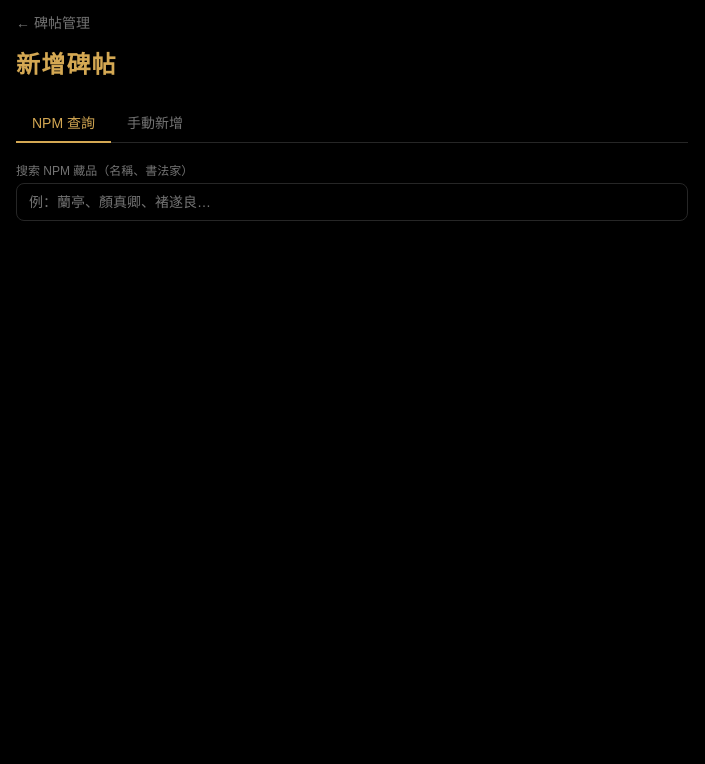
Test: creation mode — NPM search › renders npm result rows and clicking one populates the form
The width and height of the screenshot is (705, 764).
In the field with placeholder "例：蘭亭、顏真卿、褚遂良…": (352, 202) [16,183,688,221], type "蘭亭"
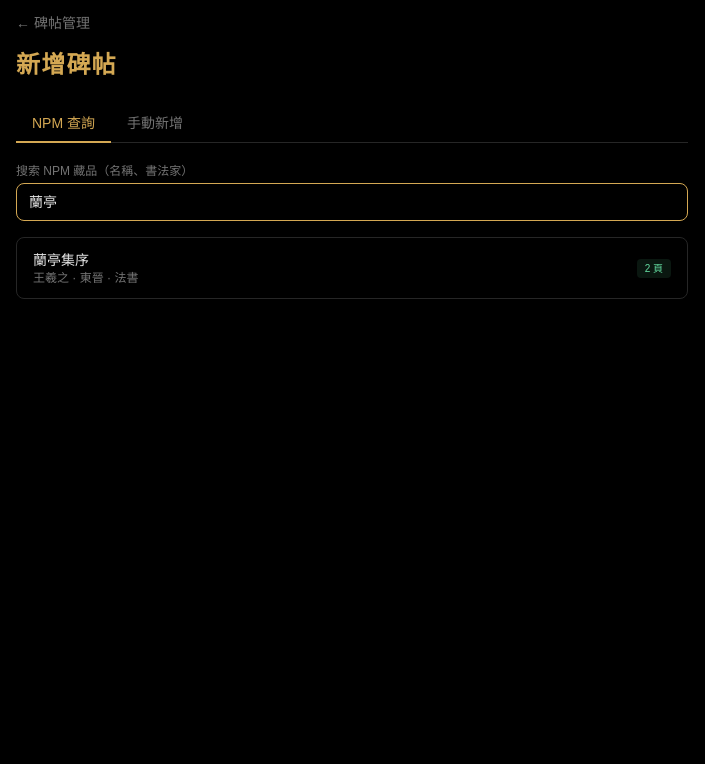
Now the text "蘭亭集序" is shown
Click the text "蘭亭集序": (61, 260) [33,252,89,268]
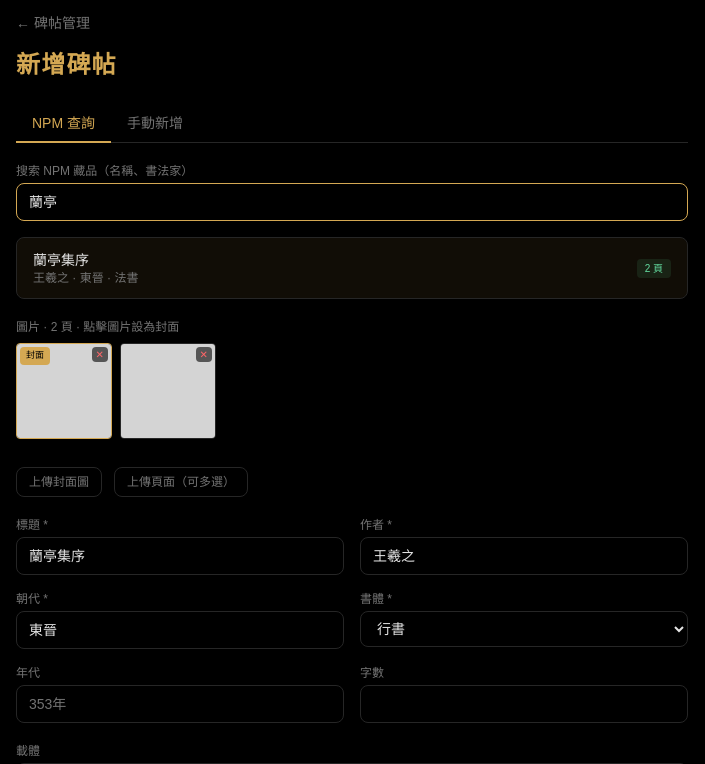
Now the field showing "蘭亭集序" below "標題 *" is shown, box [16,537,344,575]
